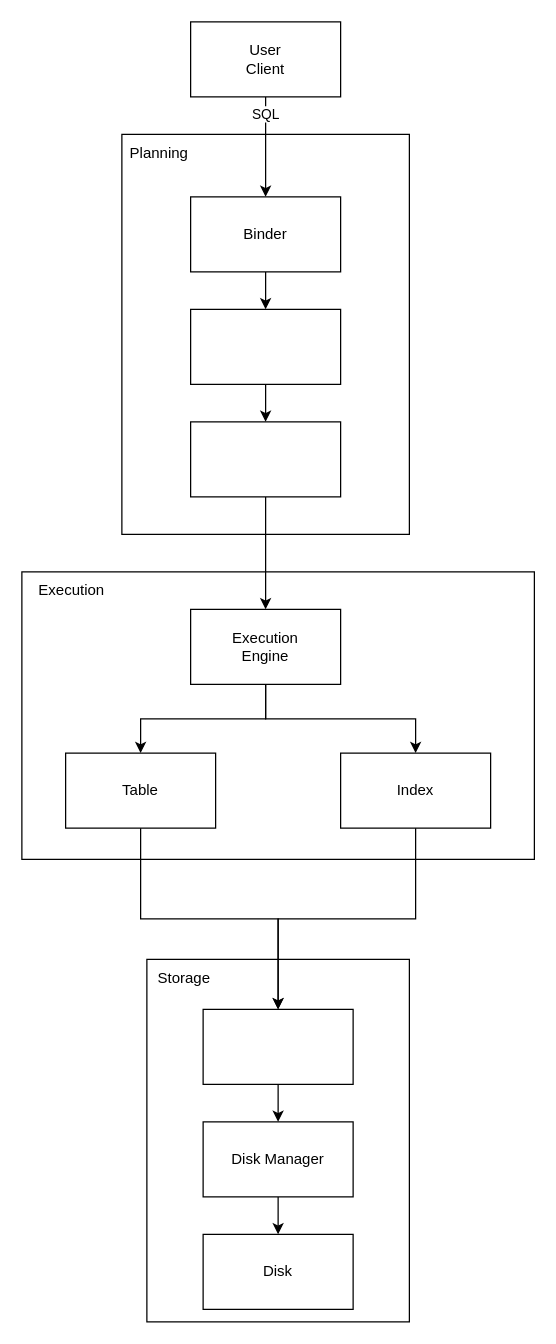
Image size: 556x1344. Some labels were removed from this diagram. Here are the shapes that lost their labels. From the top down, the centre of each, then its label:
At pixel 265 346: "Planner".
At pixel 265 459: "Optimizer".
At pixel 277 1046: "Buffer Pool Manager".
